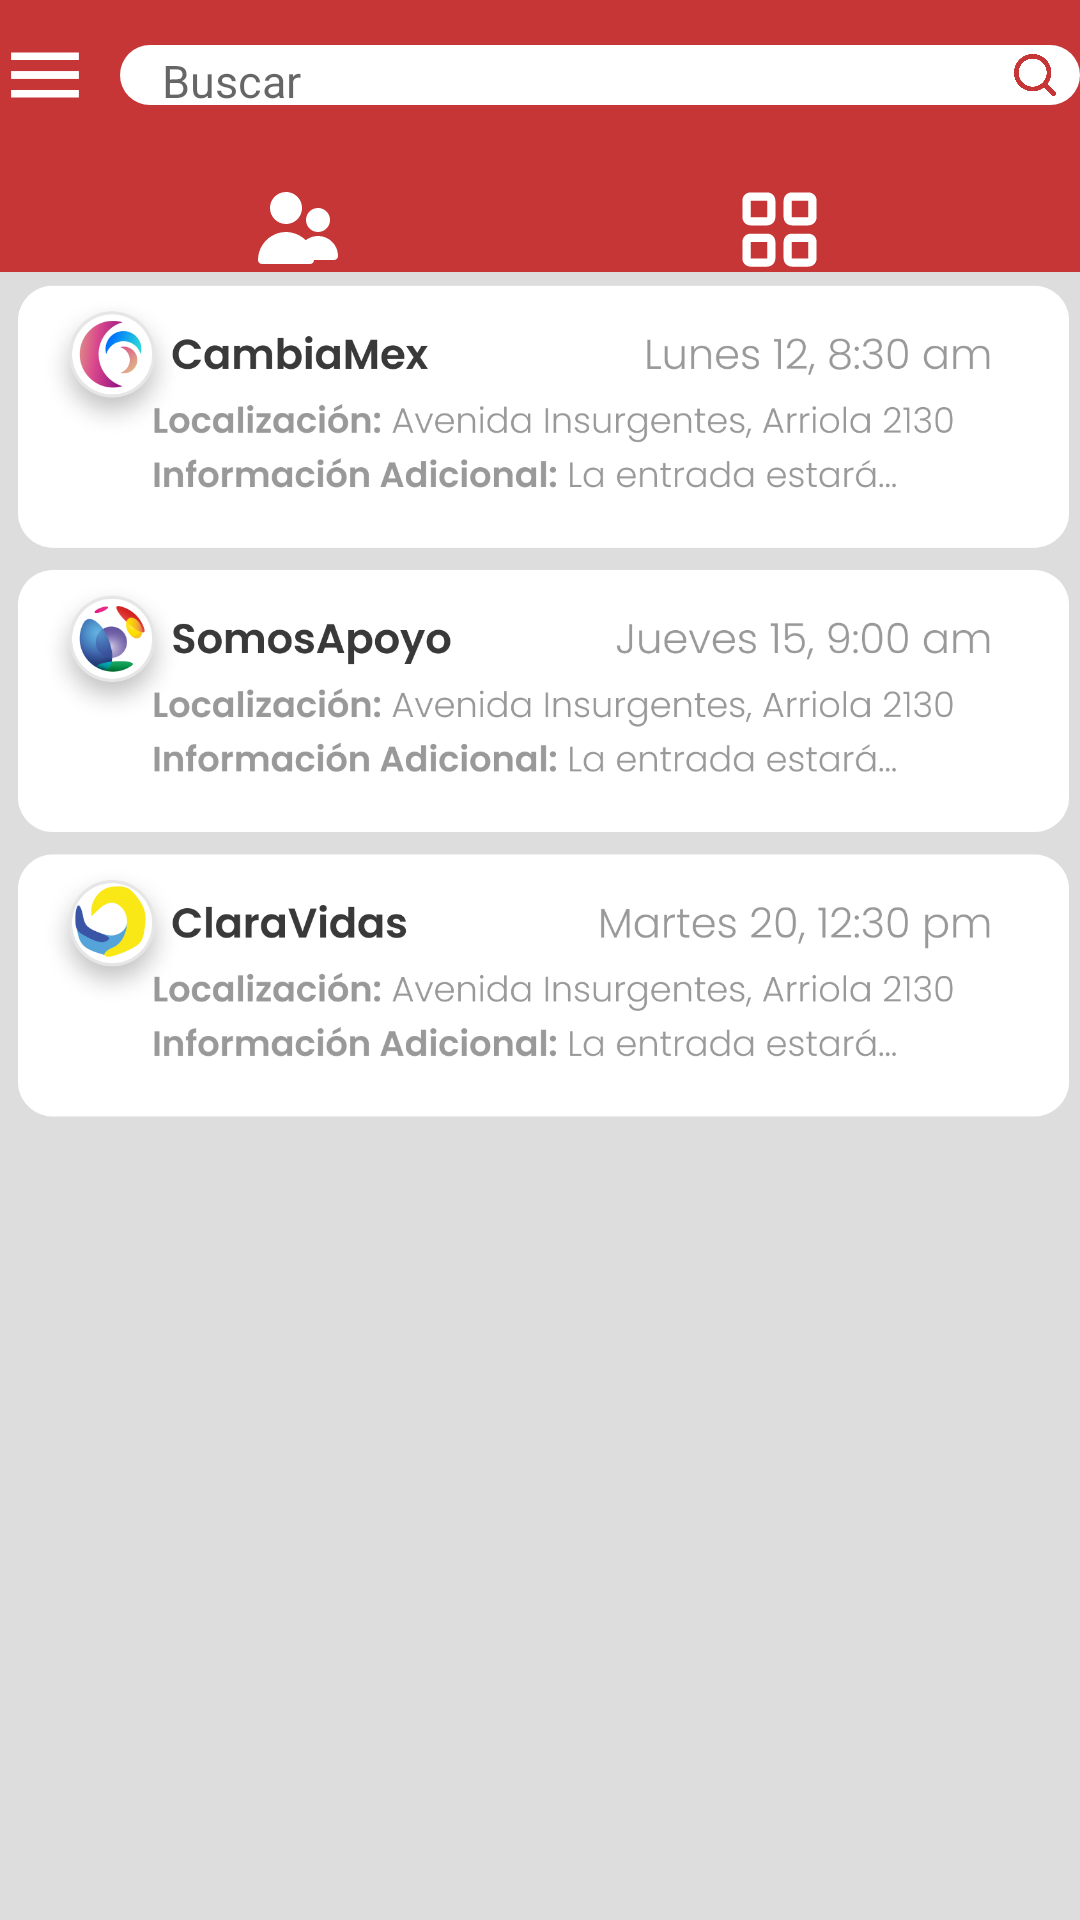

Icon bounding boxes for this 1080x1920 phone screenshot, format (x1, y1, x2, y2):
zzimg plantilla tresbarras: (11, 52, 79, 98)
